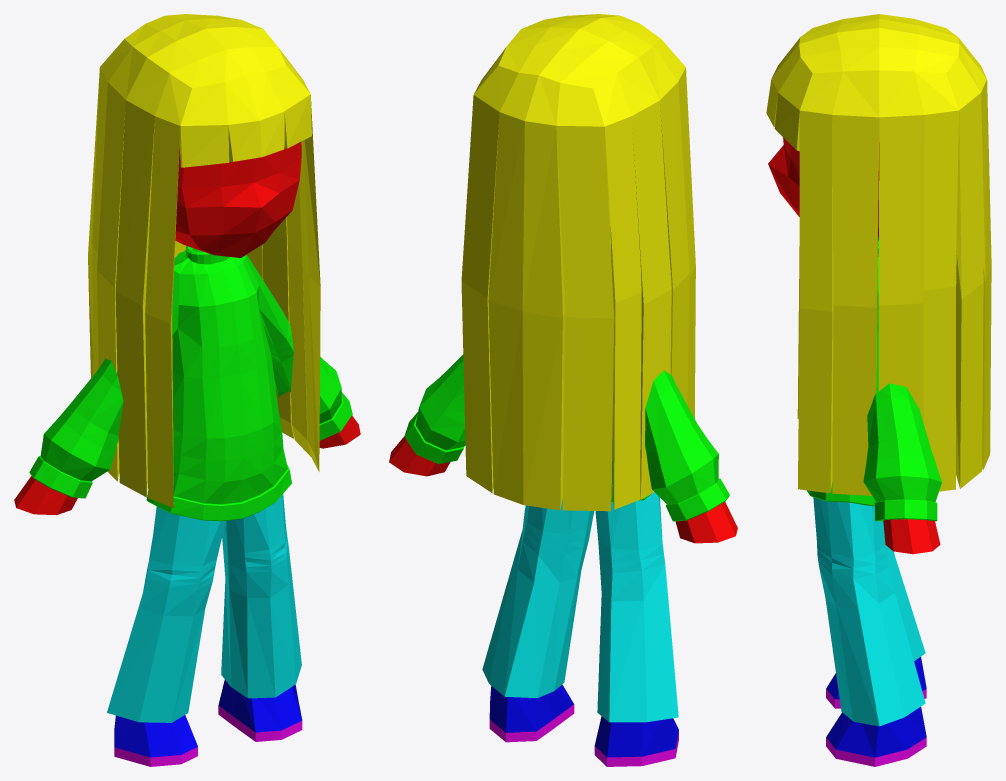
Rendered from KENDRAFINAL.fbx.
3 views of the same model, side by side, from view 1: azimuth 30°, elevation 25°; view 2: azimuth 150°, elevation 25°; view 3: azimuth 270°, elevation 25° (orthographic).
Visible parts, largest first — view 1: pCylinder18; view 2: pCylinder18; view 3: pCylinder18.
Boxes of the visible parts, x1=… form: pCylinder18: x1=14, y1=14, x2=360, y2=766; pCylinder18: x1=389, y1=14, x2=737, y2=766; pCylinder18: x1=766, y1=14, x2=991, y2=766.
Bounding box in the file's own units: 215 × 422 × 124.
